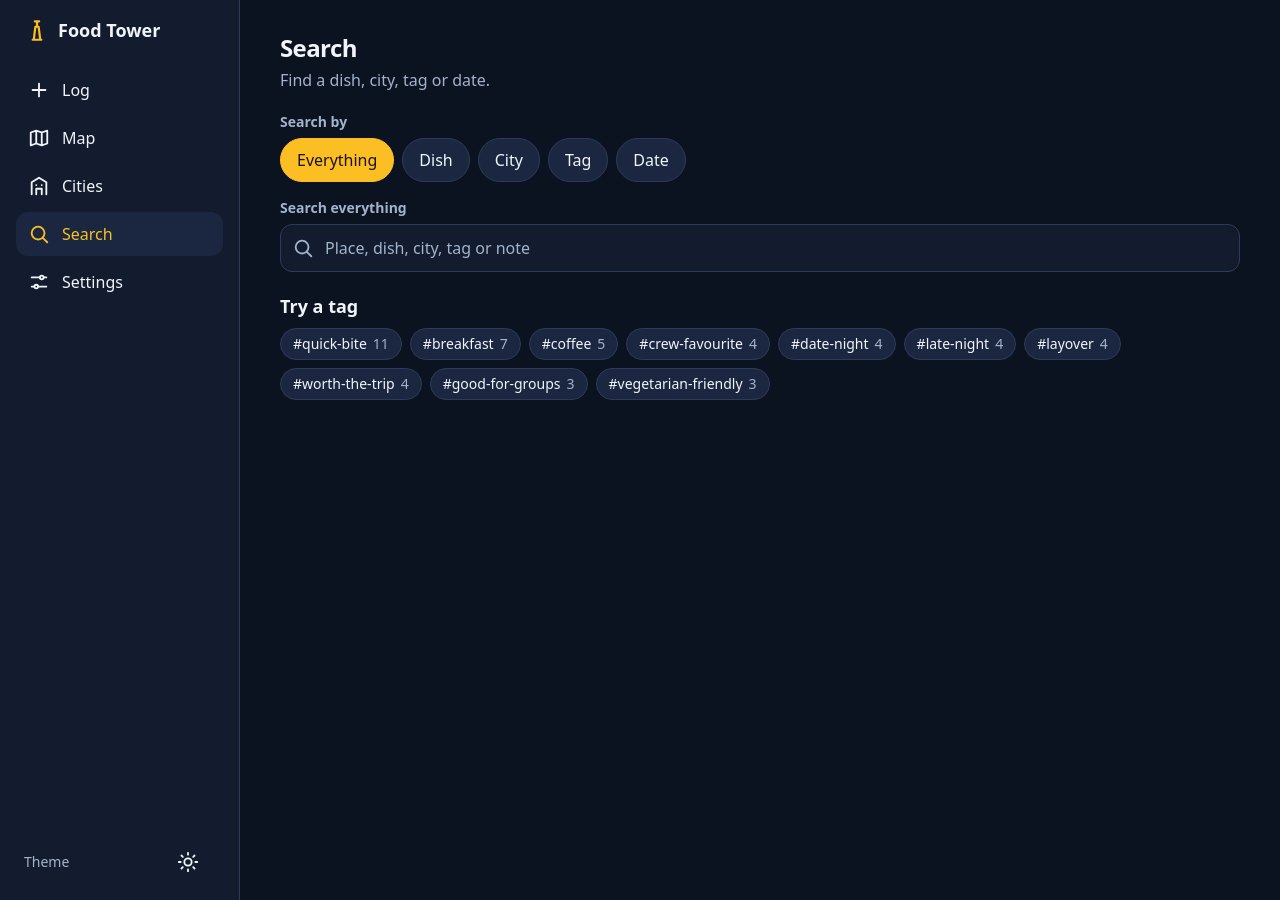
Search › searches by city name or airport code
Expected: the heading "Search" is shown, [280,31,357,64]
Click the radio button labelled "City" at (509, 160), box [478,138,540,182]
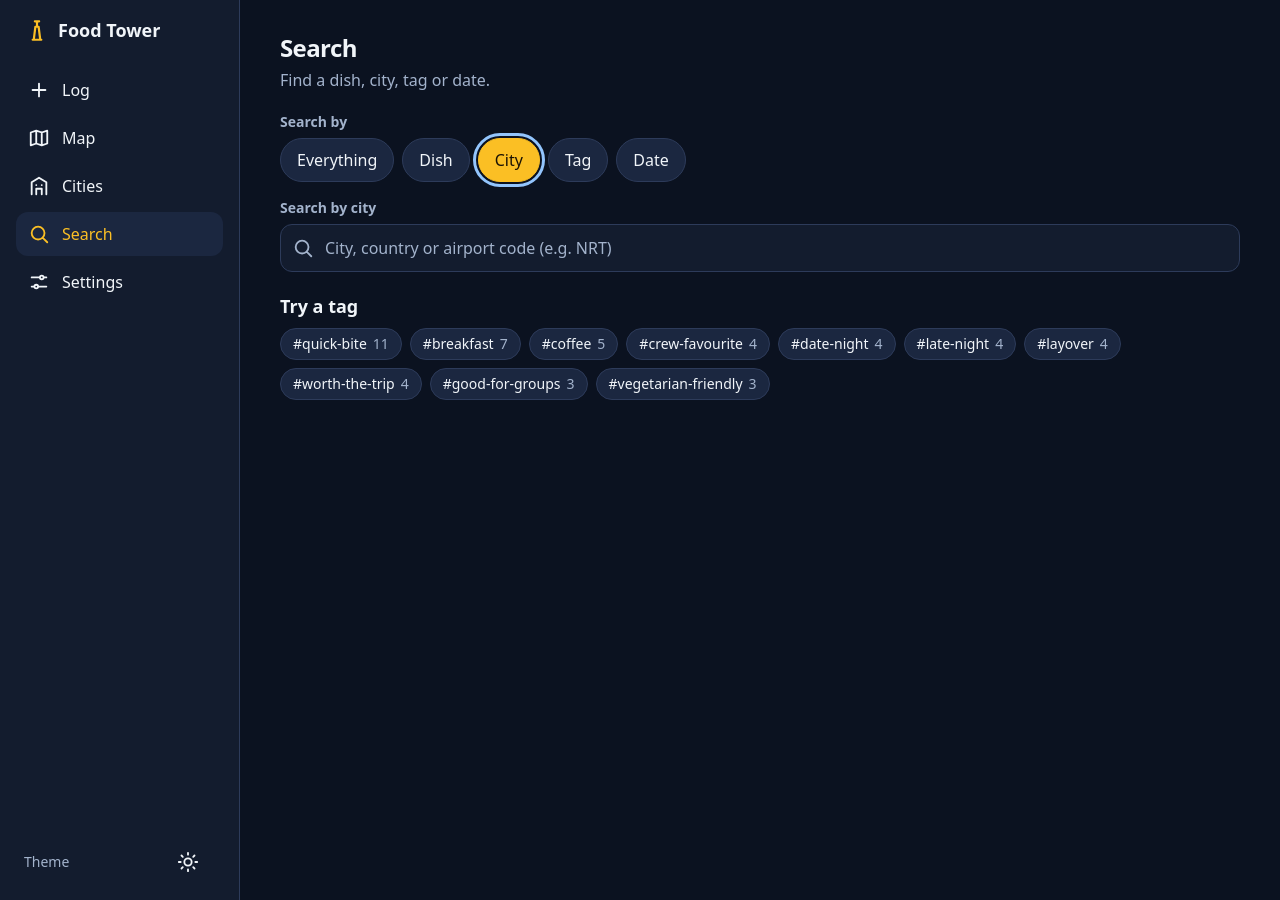
Type "NRT" into the search field labelled "Search by city" at (760, 248), box [280,224,1240,272]
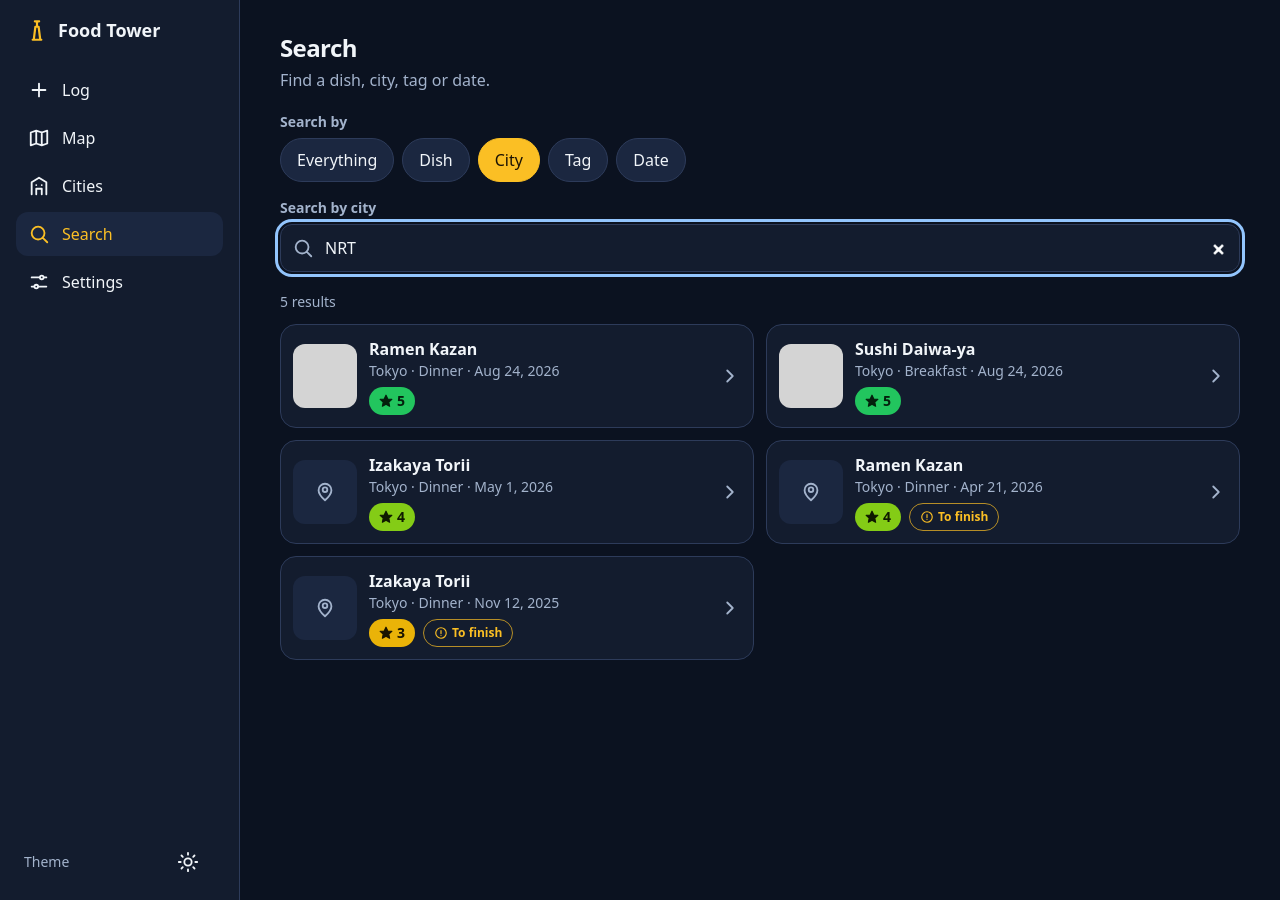
Expected: the list item "Ramen Kazan Tokyo · Dinner · Aug 24, 2026 5" is shown, [280,324,754,428]
Expected: the list item "Sushi Daiwa-ya Tokyo · Breakfast · Aug 24, 2026 5" is shown, [766,324,1240,428]
Expected: the list item "Izakaya Torii Tokyo · Dinner · May 1, 2026 4" is shown, [280,440,754,544]
